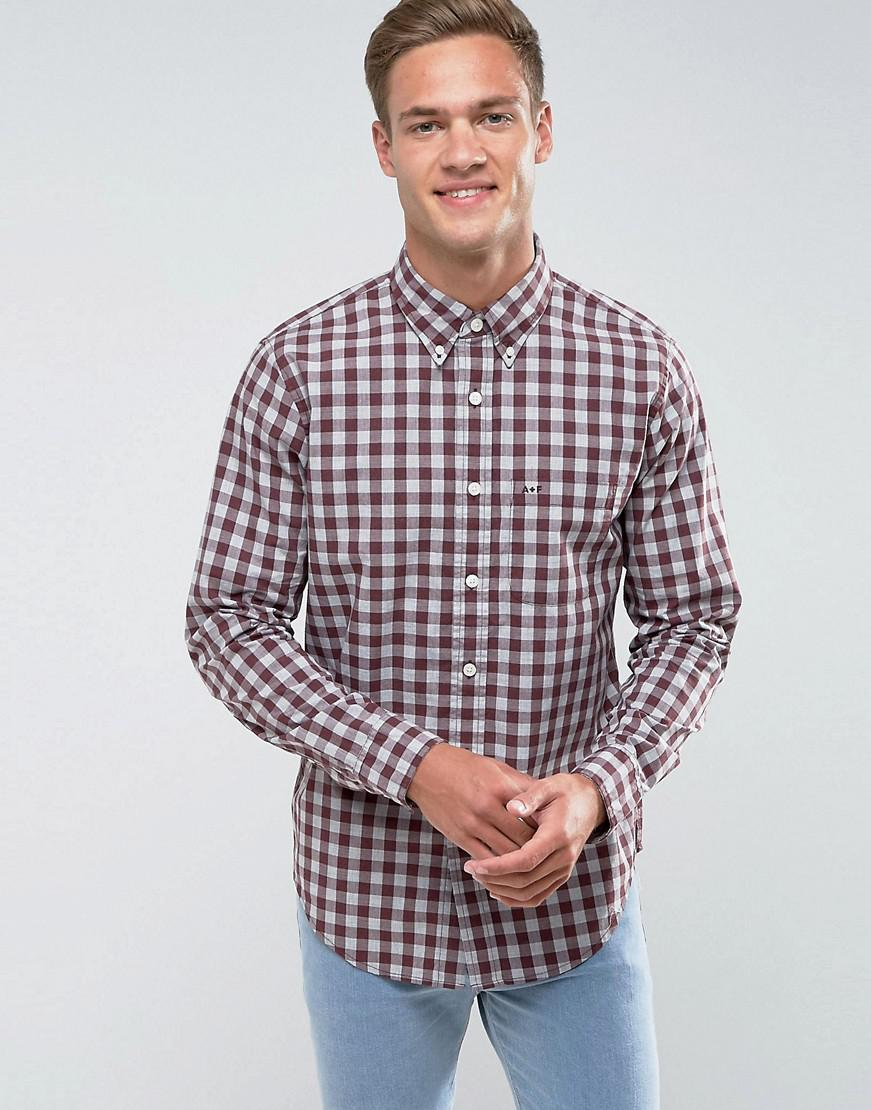teeshirt: (185, 237, 742, 988)
